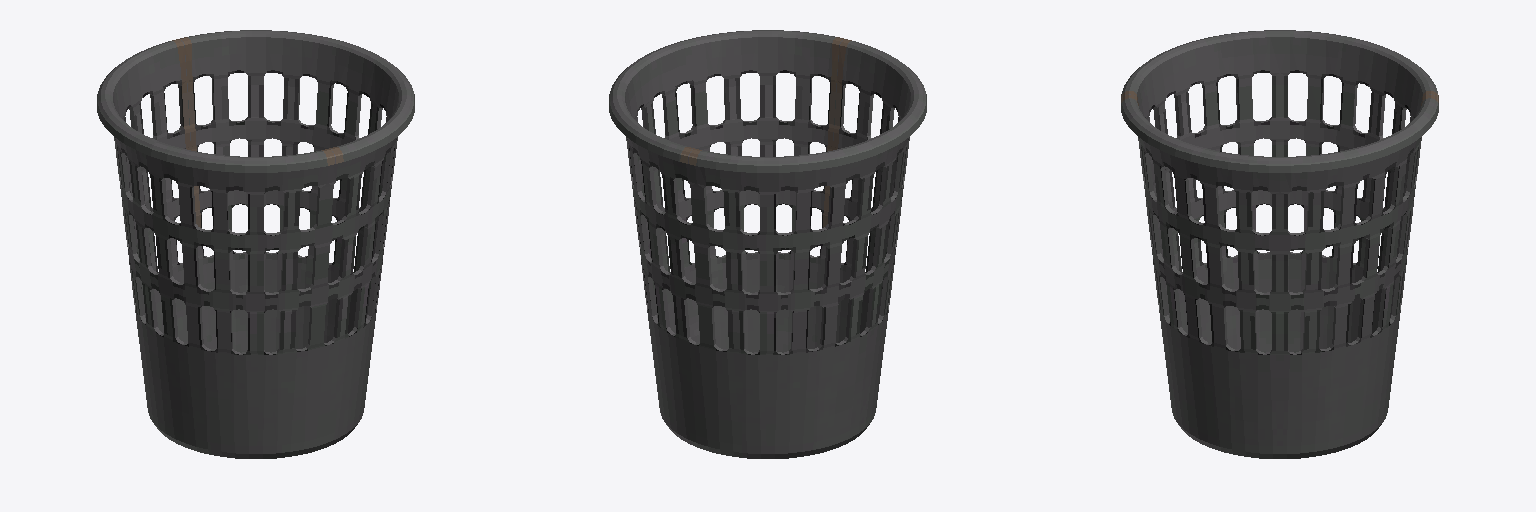
3 views of the same model, side by side, from view 1: azimuth 30°, elevation 25°; view 2: azimuth 150°, elevation 25°; view 3: azimuth 270°, elevation 25° (orthographic).
Visible parts, largest first — view 1: g0; view 2: g0; view 3: g0.
Part boxes in pixels (bbox=[...]): g0: bbox=[97, 30, 414, 458]; g0: bbox=[609, 30, 926, 458]; g0: bbox=[1121, 30, 1438, 458].
Bounding box in the file's own units: 0.4693 × 0.5252 × 0.4693.
1 materials, 1 textured.